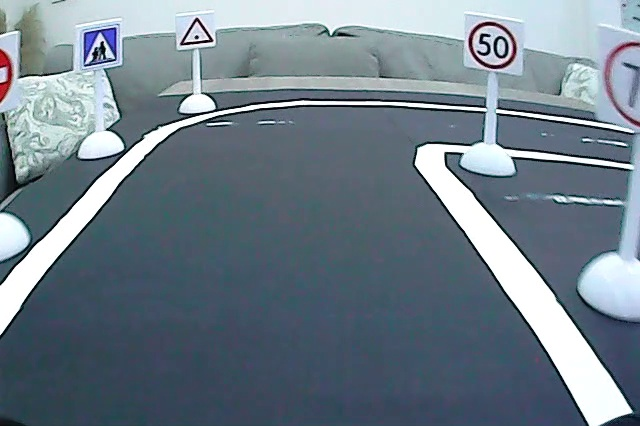green light: (179, 14, 215, 47)
school crossing: (81, 25, 121, 69)
speed limit 50: (467, 19, 521, 73)
